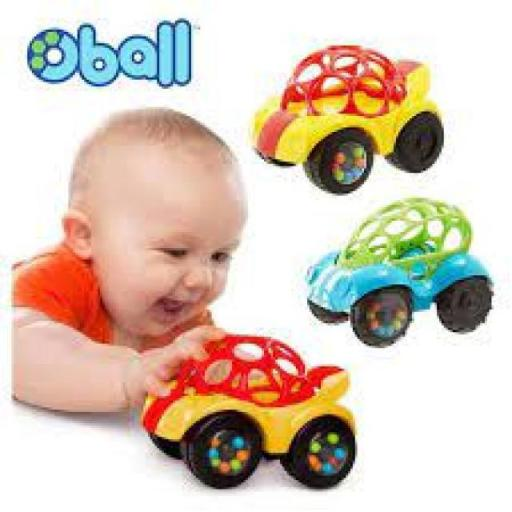baby: (0, 108, 247, 414)
